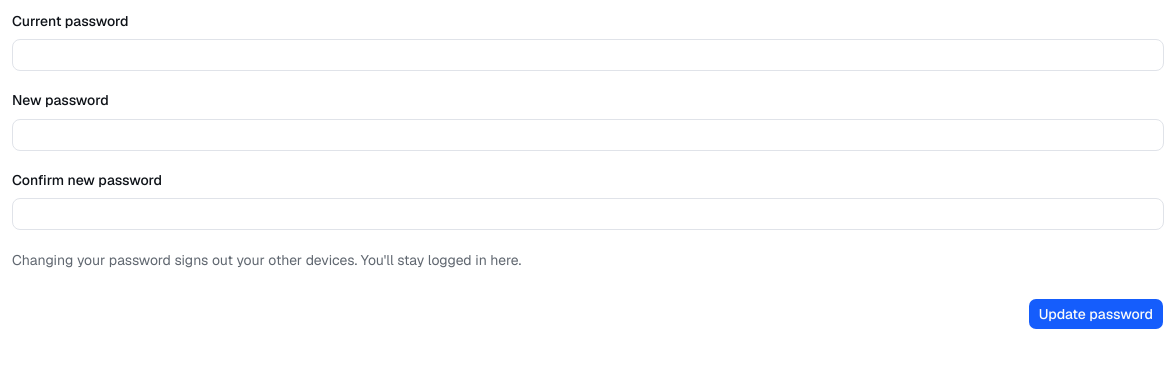
Test: ChangePasswordForm › shows a validation error and does not submit for a too-short new password
In the password field labelled "Current password": (588, 55) [12, 39, 1164, 71], type "old-password"
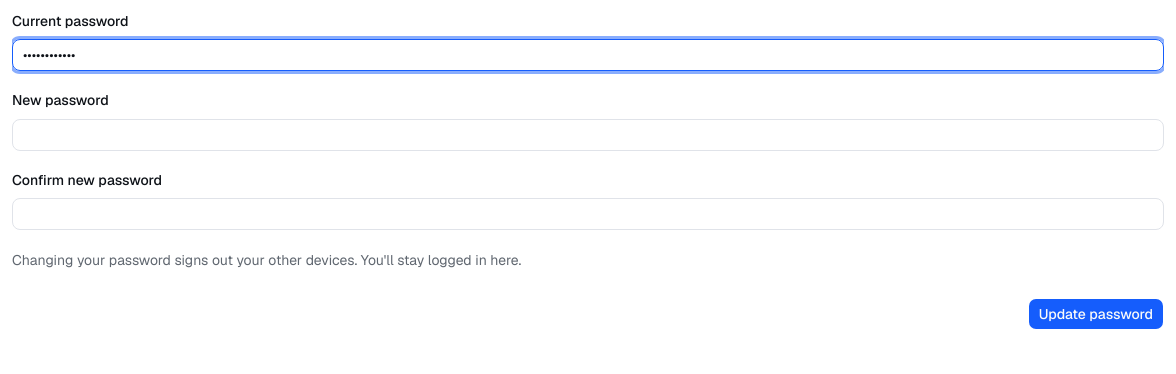
In the password field labelled "New password": (588, 134) [12, 118, 1164, 150], type "short"
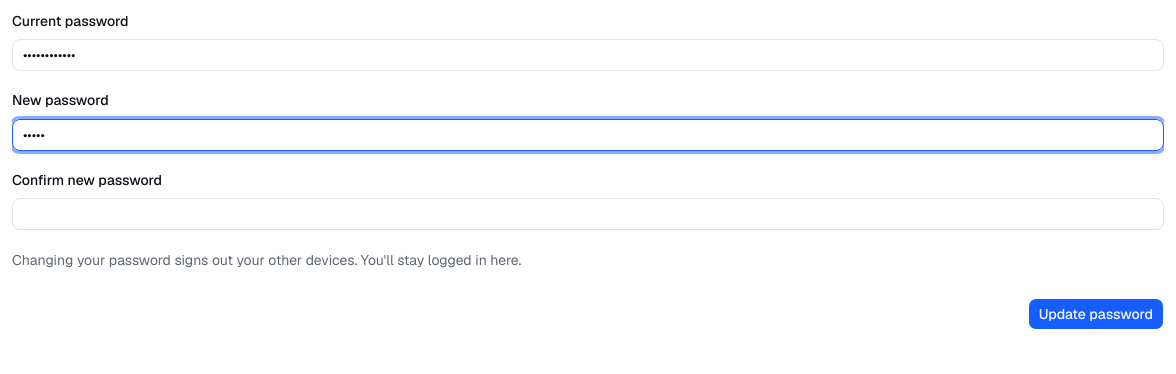
In the password field labelled "Confirm new password": (588, 214) [12, 198, 1164, 230], type "short"
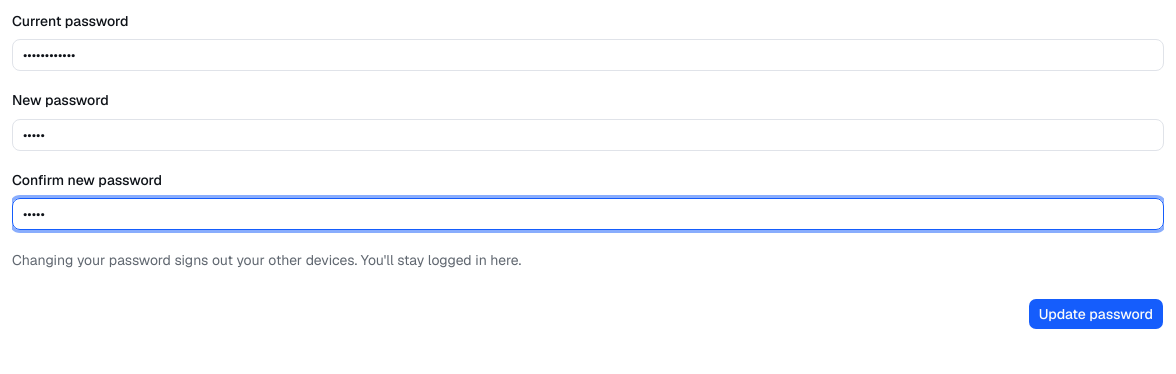
Click the button "Update password": (1096, 314) [1028, 298, 1164, 330]
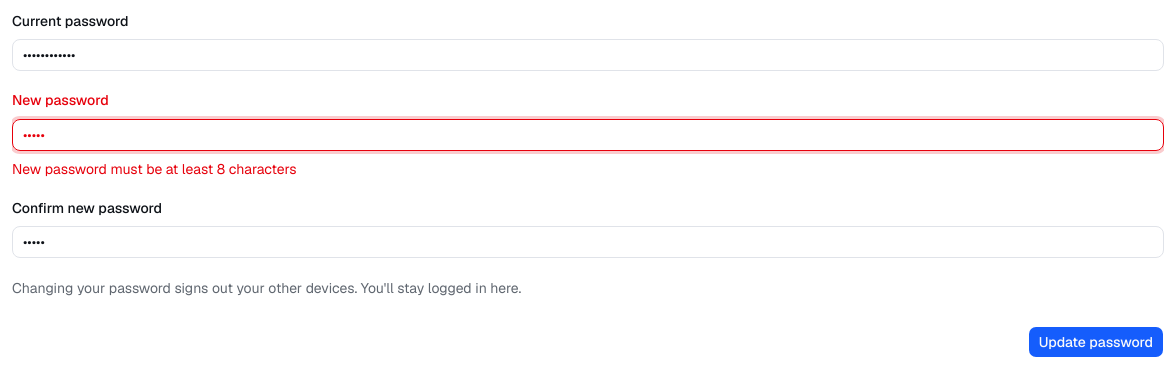
Check: the text "New password must be at least 8 characters" is shown, box [12, 160, 296, 178]
